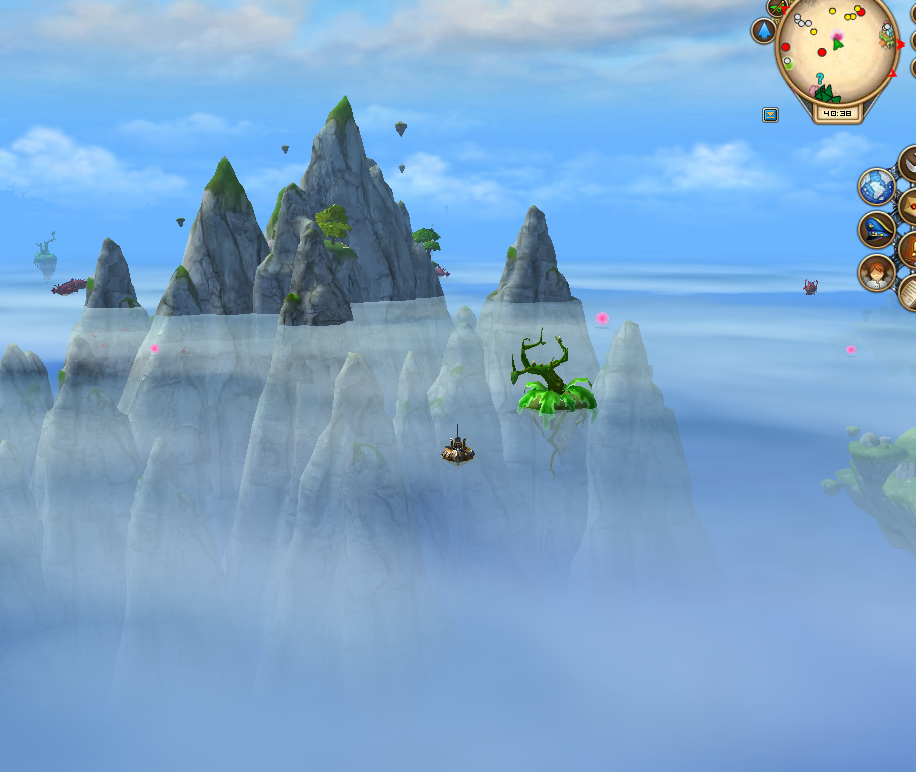dandelion-empty: (510, 325, 600, 465)
dandelion-full: (25, 225, 63, 277)
fluff: (585, 307, 611, 327)
